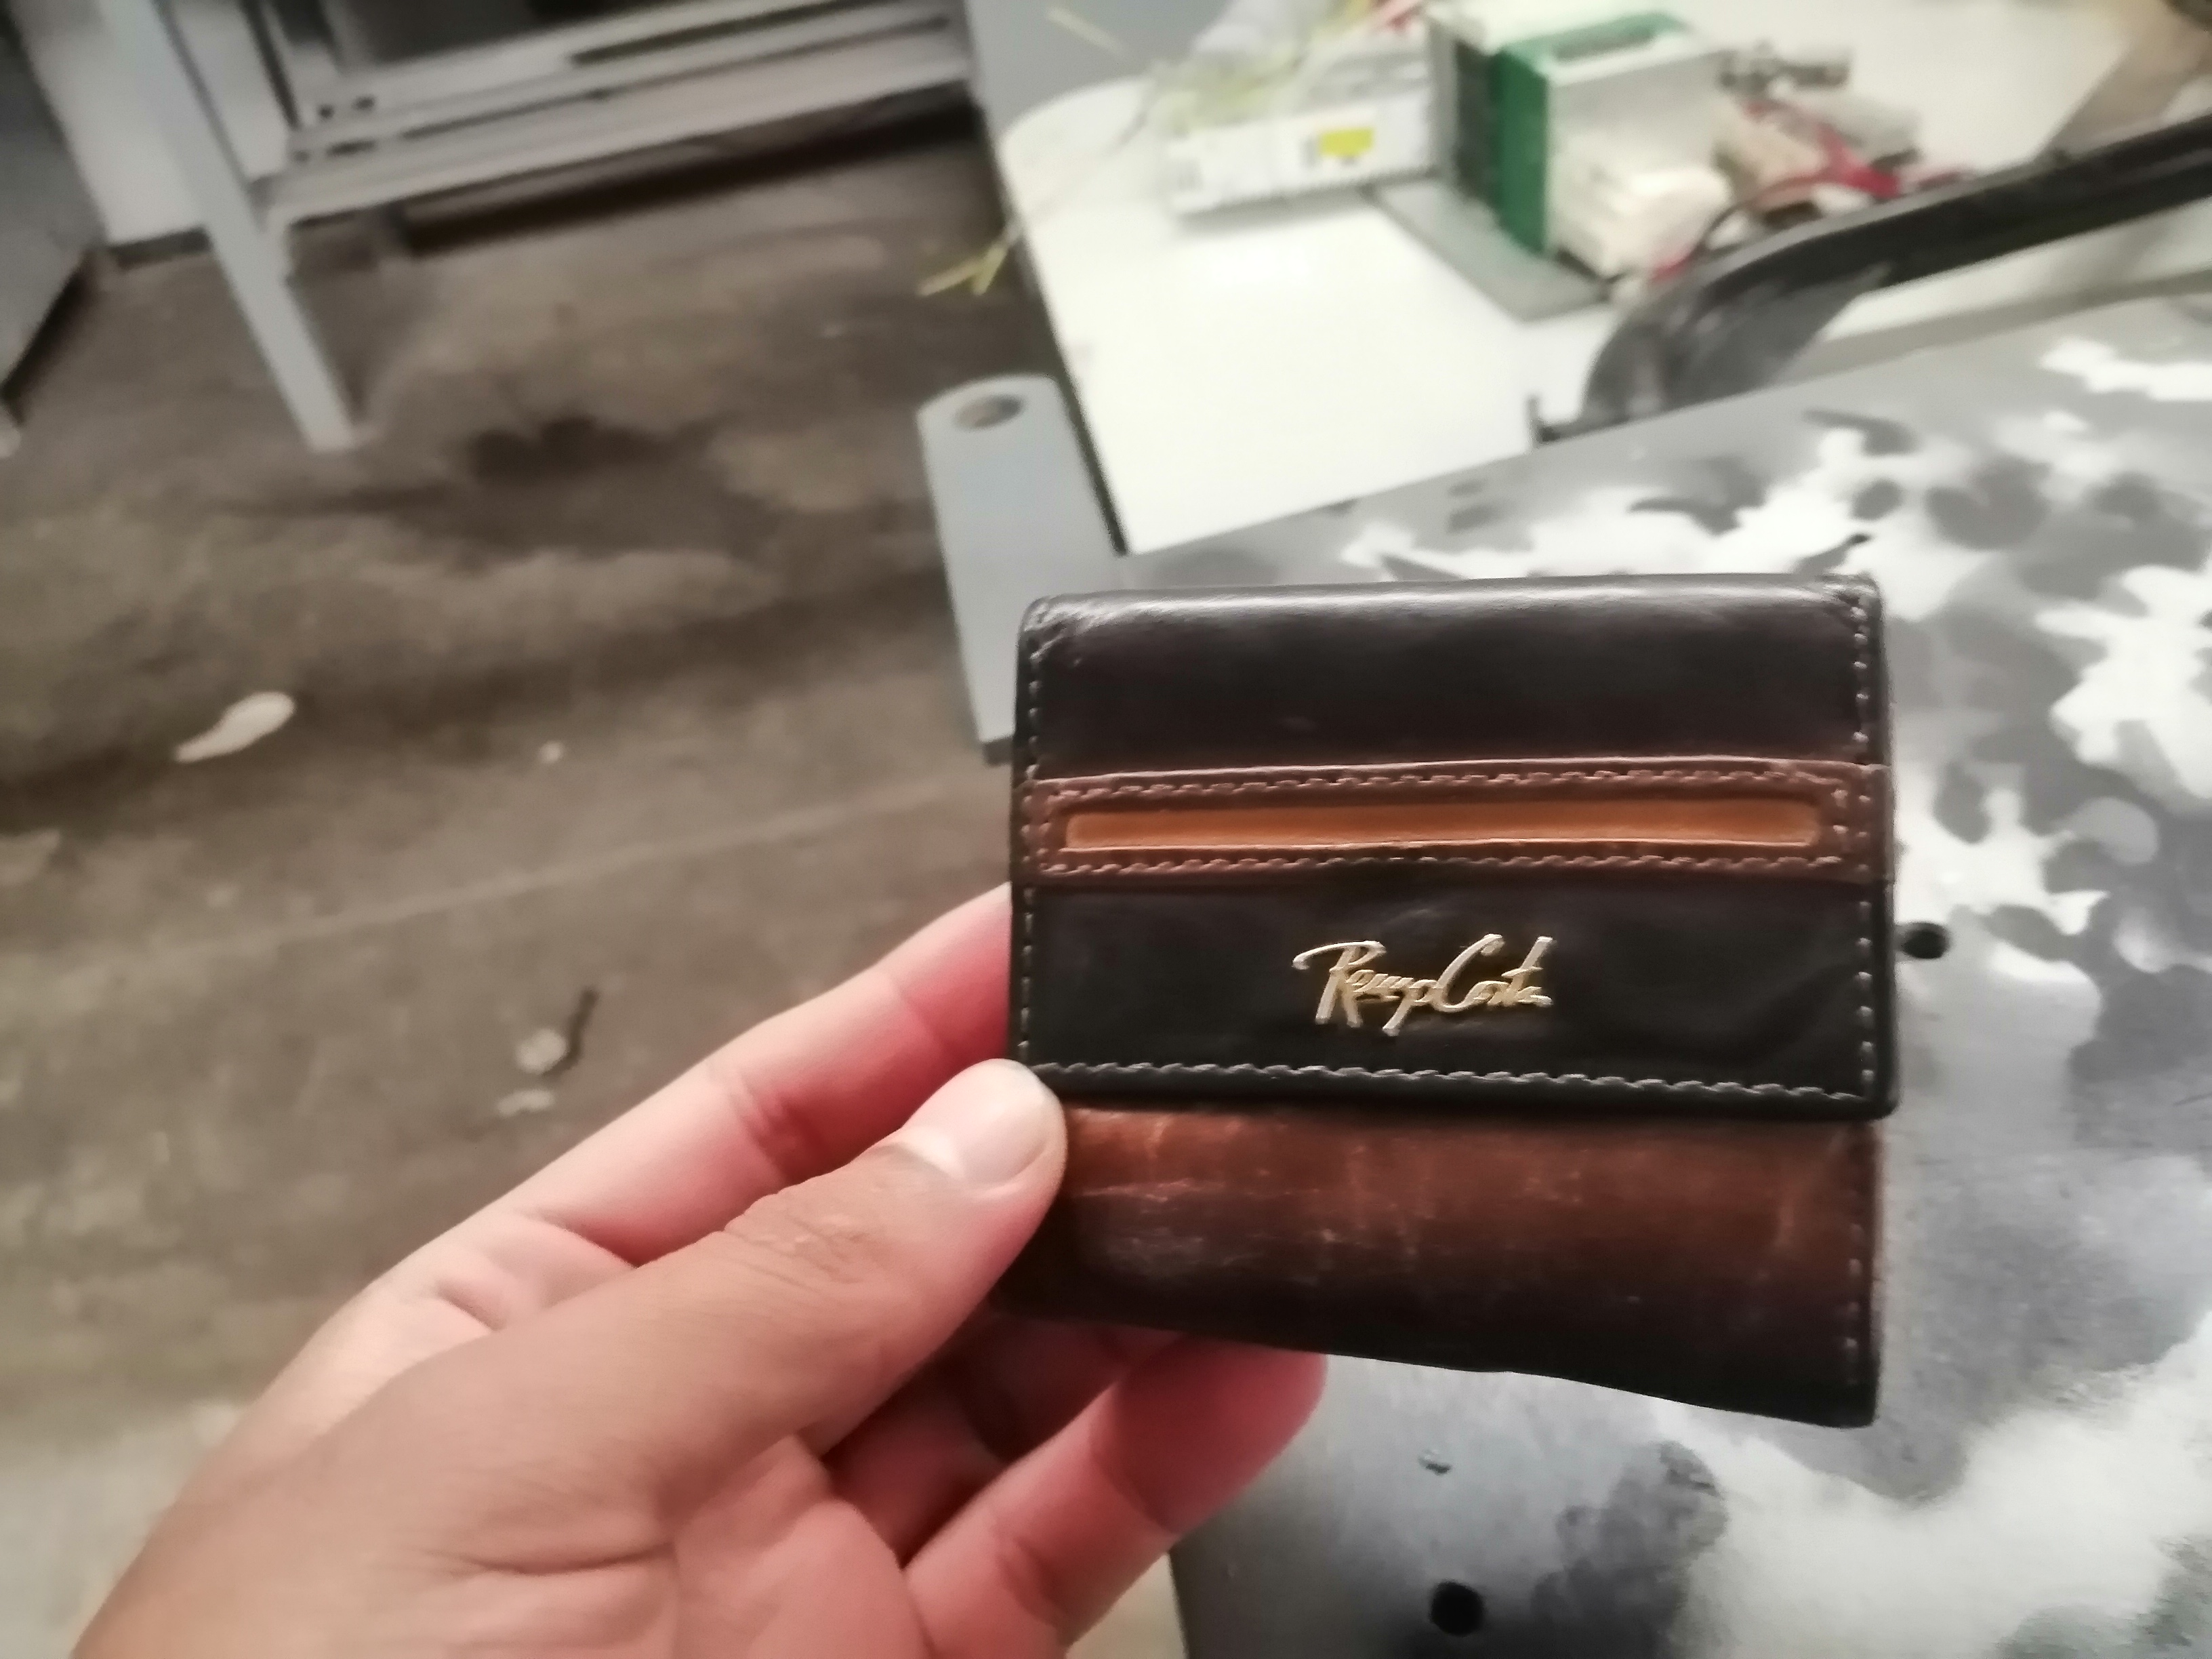monedero: (977, 545, 1916, 1457)
